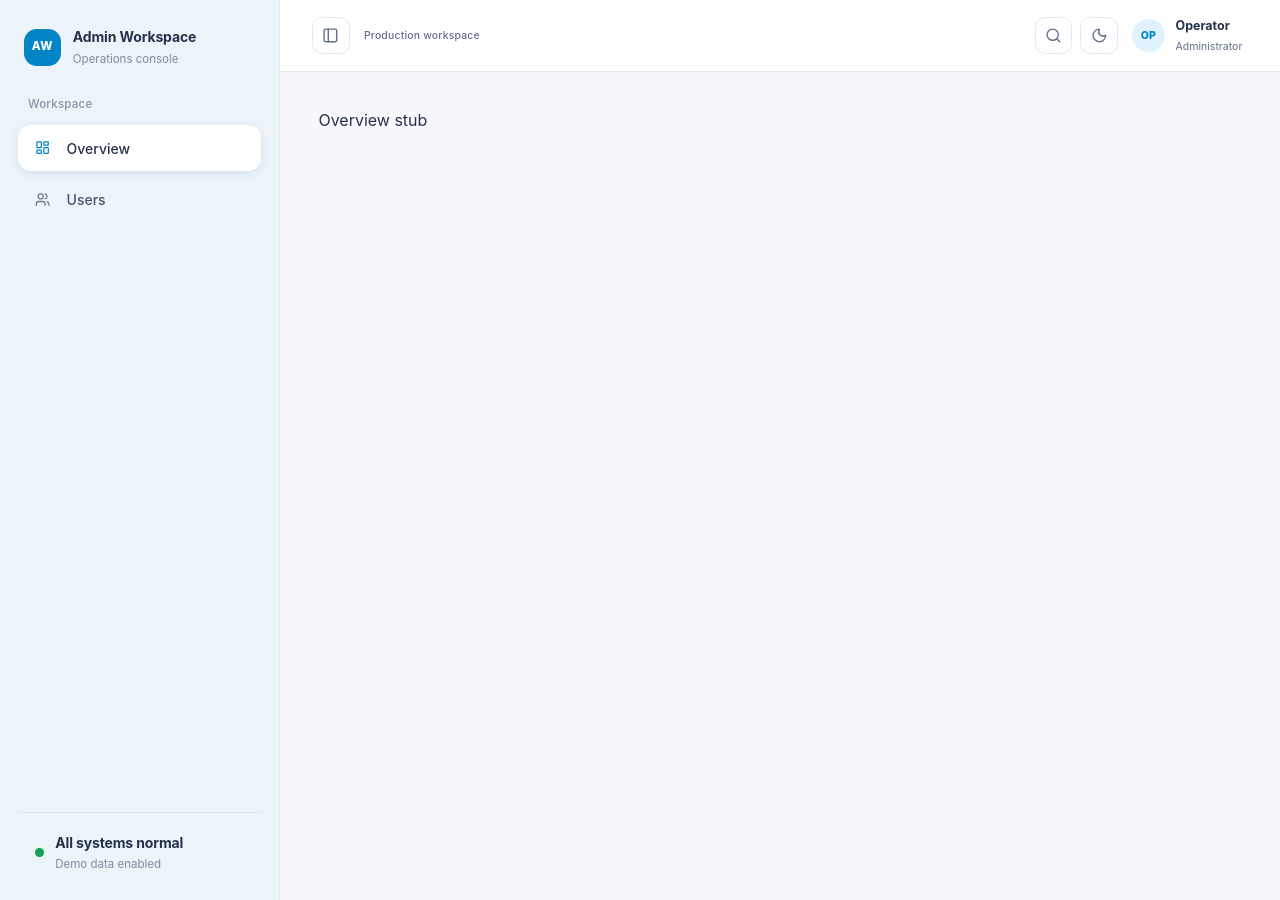
Test: DashboardLayout › collapses the sidebar while keeping navigation names accessible
The image size is (1280, 900).
Expected: the text "Overview stub" is shown, [318, 110, 427, 130]
What coordinates should you click on to do the following:
click the button named "Collapse sidebar"
I would click on:
 (331, 36)
Its box is [312, 17, 350, 54].
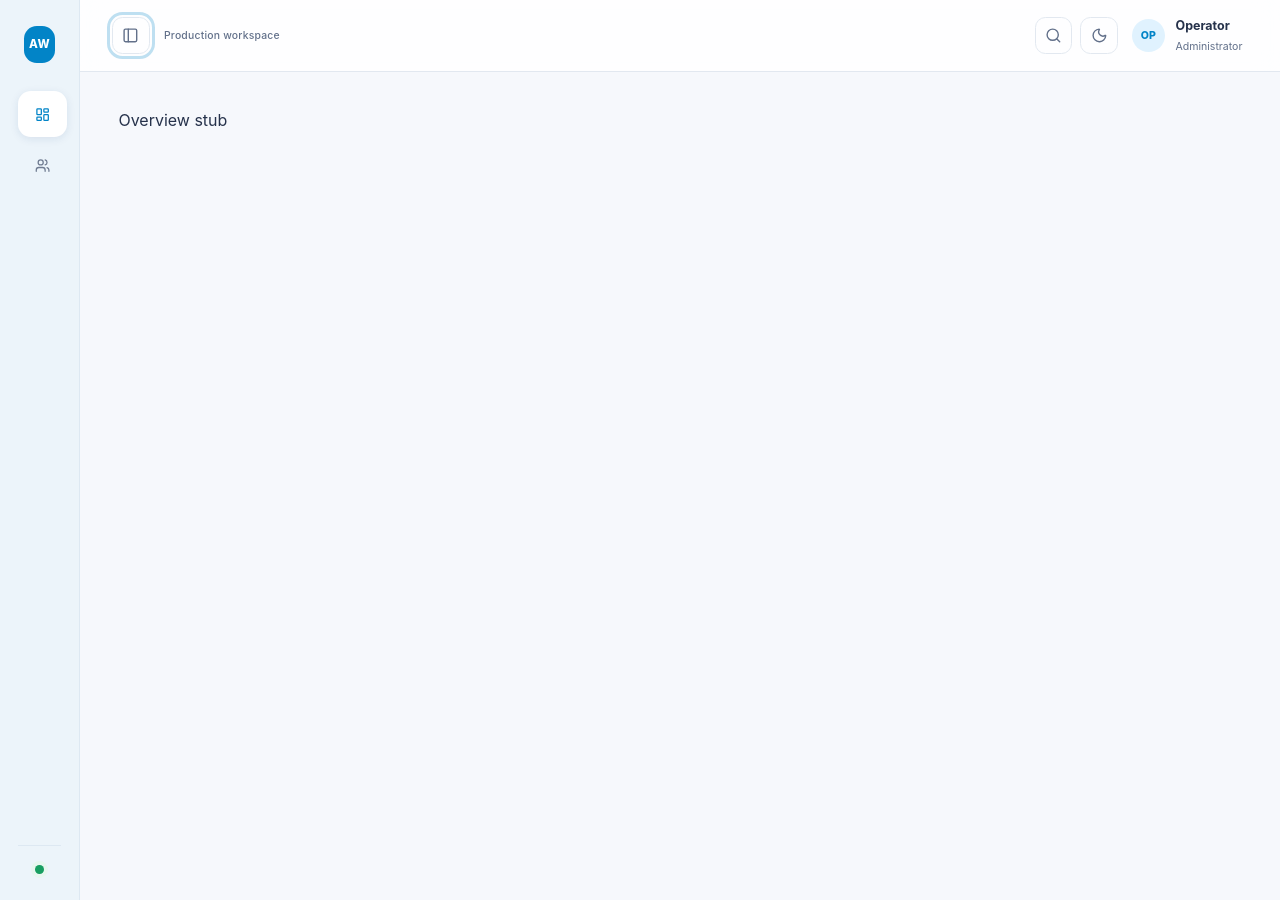
Expected: the 1st link named "Overview" is shown, [18, 91, 67, 137]
Expected: the button named "Expand sidebar" is collapsed, [112, 17, 150, 54]
